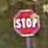stop: (12, 8, 40, 37)
